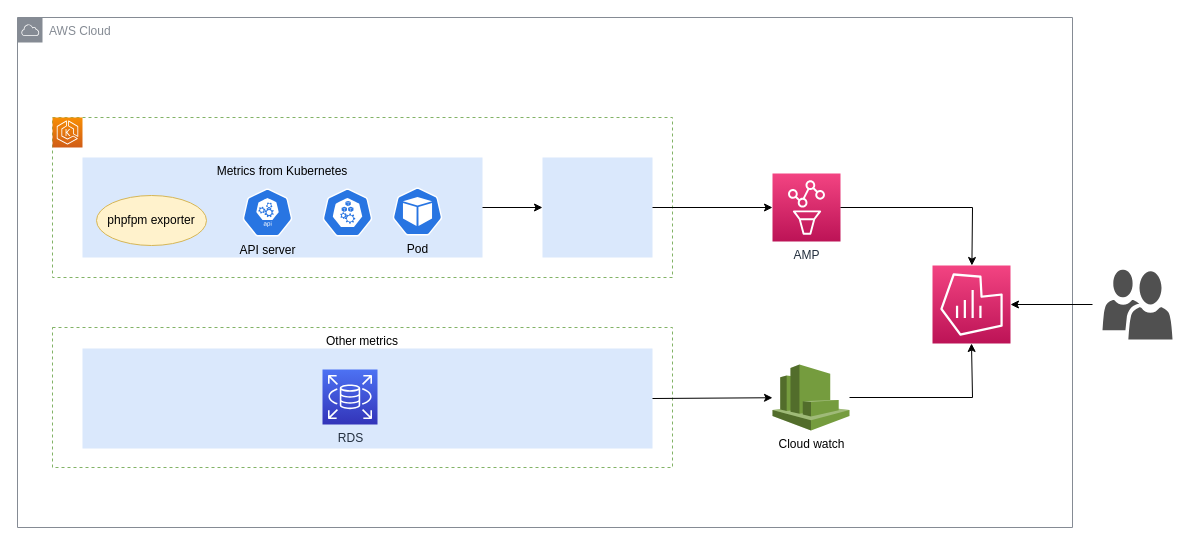
This 1190x545 diagram has some shape labels left out. Each missing label, with the centre of its shape:
"AMG" goes at [971,304].
"EKS" goes at [67,132].
"Node" goes at [347,212].
"Prometheus in Kubernetes" goes at [597,207].
